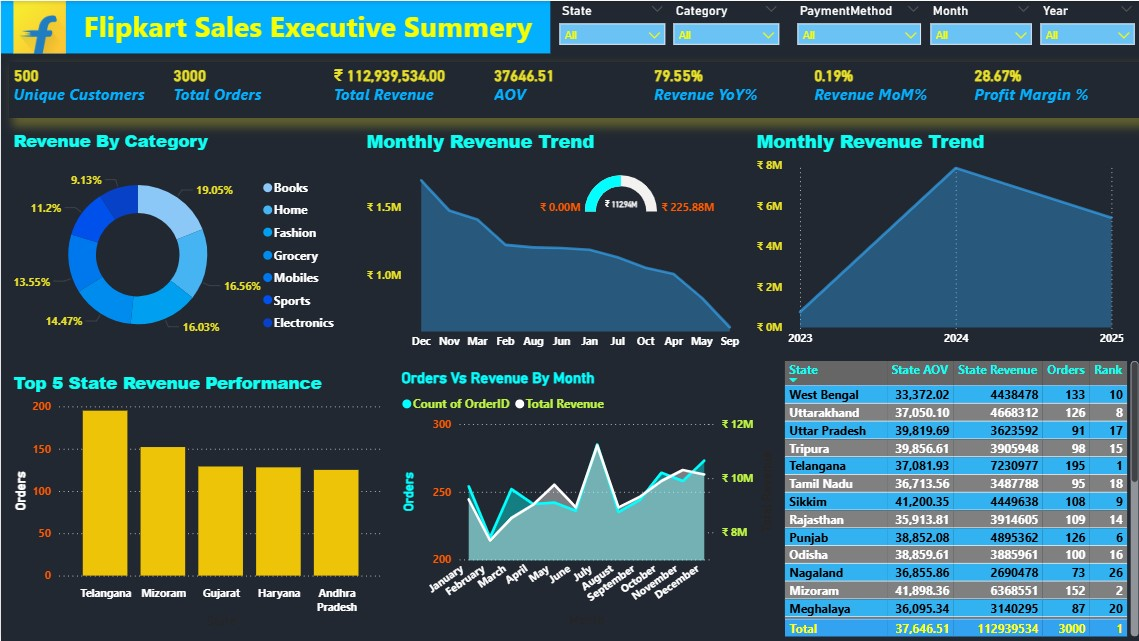

The page's visual inventory and layout, read from the dashboard file:
{"tool":"powerbi","page":{"name":"Sales","canvas":[1280,720],"ordinal":0},"visuals":[{"type":"textbox","box":[0,0,617.8,58.7],"z":0},{"type":"multiRowCard","fields":{"Values":["customers.CustomerID","order_details.Total Orders","order_details.Total Revenue","order_details.AOV","order_details.Revenue YoY%","order_details.Revenue MoM%","products.Profit Margin %"]},"box":[8.8,69.1,1271.2,63.2],"z":1000},{"type":"image","box":[0,0,86.2,58.7],"z":2000},{"type":"clusteredColumnChart","title":" Top 5 State Revenue Performance ","fields":{"Category":["customers.State"],"Y":["CountNonNull(order_details.OrderID)"]},"box":[9.3,414.7,426,295.3],"z":3000},{"type":"donutChart","title":"Revenue By Category","fields":{"Y":["order_details.Total Revenue"],"Category":["products.Category"]},"box":[8.9,143.2,379.8,258],"z":4000},{"type":"lineChart","title":"Monthly Revenue Trend","fields":{"Category":["orders.Month"],"Y":["order_details.Total Revenue"]},"box":[405.6,143.2,431.4,258],"z":5000},{"type":"tableEx","fields":{"Values":["customers.State","events.State AOV","events.State Revenue","order_details.OrderID","order_details.State Revenue Rank"]},"box":[880.9,405.3,399.1,314.7],"z":6000},{"type":"areaChart","title":"Orders Vs Revenue By Month","fields":{"Category":["orders.OrderDate.Variation.Date Hierarchy.Month"],"Y":["CountNonNull(orders.OrderID)"],"Y2":["order_details.Total Revenue"]},"box":[445.7,414.4,427.3,295.6],"z":7000},{"type":"lineChart","title":"Monthly Revenue Trend","fields":{"Y":["order_details.Total Revenue"],"Category":["orders.OrderYear"]},"box":[845,143.2,423.4,254.4],"z":8000},{"type":"gauge","fields":{"Y":["order_details.Total Revenue"]},"box":[596,181.5,216.2,75.6],"z":9000},{"type":"slicer","fields":{"Values":["products.Category"]},"box":[752,2.7,128.9,52.4],"z":10000},{"type":"slicer","fields":{"Values":["orders.OrderYear"]},"box":[1164.4,2.7,115.6,52.4],"z":11000},{"type":"slicer","fields":{"Values":["orders.Month"]},"box":[1040.9,2.7,123.6,52.4],"z":12000},{"type":"slicer","fields":{"Values":["orders.PaymentMethod"]},"box":[891.6,2.7,149.3,52.4],"z":13000},{"type":"slicer","fields":{"Values":["customers.State"]},"box":[623.1,2.7,128.9,52.4],"z":14000}]}

Visuals, with their boxes in screenshot pixels (x1, y1, x2, y2), scaled from the page's 1280x720 canvas onto the 1139x641 screenshot:
textbox: left=0, top=0, right=550, bottom=52
multiRowCard - customers.CustomerID x order_details.Total Orders: left=8, top=62, right=1138, bottom=118
image: left=0, top=0, right=77, bottom=52
" Top 5 State Revenue Performance " clusteredColumnChart: left=8, top=369, right=387, bottom=632
"Revenue By Category" donutChart: left=8, top=127, right=346, bottom=357
"Monthly Revenue Trend" lineChart: left=361, top=127, right=745, bottom=357
tableEx - customers.State x events.State AOV: left=784, top=361, right=1138, bottom=640
"Orders Vs Revenue By Month" areaChart: left=397, top=369, right=777, bottom=632
"Monthly Revenue Trend" lineChart: left=752, top=127, right=1129, bottom=354
gauge - order_details.Total Revenue: left=530, top=162, right=723, bottom=229
slicer - products.Category: left=669, top=2, right=784, bottom=49
slicer - orders.OrderYear: left=1036, top=2, right=1138, bottom=49
slicer - orders.Month: left=926, top=2, right=1036, bottom=49
slicer - orders.PaymentMethod: left=793, top=2, right=926, bottom=49
slicer - customers.State: left=554, top=2, right=669, bottom=49
